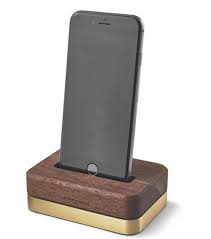mobil: (58, 6, 143, 183)
